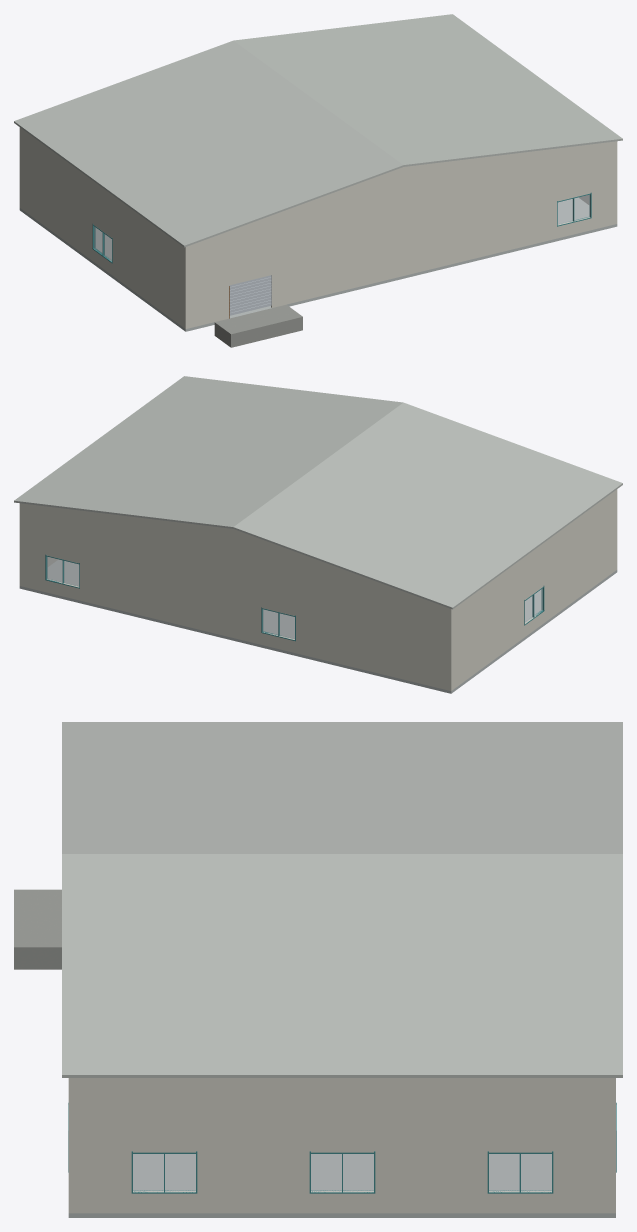
Rendered from innerscene_godown_warehouse.glb.
3 views of the same model, one above another, from view 1: azimuth 30°, elevation 25°; view 2: azimuth 150°, elevation 25°; view 3: azimuth 270°, elevation 25° (orthographic). The views are drawn at different scales.
Visible parts, largest first — view 1: Original pitched roof, Warehouse south right pier, Warehouse west front pier, Warehouse west rear pier, Closed plaster gable, Warehouse south left pier, Building floor slab, Loading dock apron, Office south right pier, Office south left pier, Warehouse south lintel, Office south lintel (+4 smaller); view 2: Original pitched roof, Warehouse north left pier, Warehouse north right pier, Warehouse west rear pier, Warehouse west front pier, Closed plaster gable.001, Building floor slab, Store / plant north right pier, Store / plant north left pier, Store / plant north lintel, Warehouse north lintel, Roof bearing ring beam.001 (+5 smaller); view 3: Original pitched roof, Building floor slab, Office east rear pier, Store / plant east front pier, Office east front pier, Store / plant east rear pier, WC / changing east front pier, WC / changing east rear pier, Office east lintel, Store / plant east lintel, WC / changing east lintel, Loading dock apron (+11 smaller).
Boxes of the visible parts, box(x1,y1,x2,y2) form: Original pitched roof: box(14, 14, 622, 247); Warehouse south right pier: box(271, 162, 530, 307); Warehouse west front pier: box(112, 195, 184, 327); Warehouse west rear pier: box(21, 128, 92, 260); Closed plaster gable: box(217, 144, 590, 235); Warehouse south left pier: box(184, 235, 228, 328); Building floor slab: box(19, 197, 617, 331); Loading dock apron: box(214, 304, 302, 347); Office south right pier: box(591, 141, 617, 229); Office south left pier: box(531, 155, 556, 244); Warehouse south lintel: box(229, 225, 271, 285); Office south lintel: box(557, 147, 591, 201); Original pitched roof: box(14, 376, 622, 609); Warehouse north left pier: box(296, 570, 452, 690); Warehouse north right pier: box(106, 524, 261, 644); Warehouse west rear pier: box(452, 557, 524, 689); Warehouse west front pier: box(544, 490, 615, 622); Closed plaster gable.001: box(46, 506, 419, 597); Building floor slab: box(19, 559, 617, 693); Store / plant north right pier: box(19, 503, 45, 591); Store / plant north left pier: box(80, 517, 105, 606); Store / plant north lintel: box(45, 509, 79, 563); Warehouse north lintel: box(261, 562, 295, 615); Roof bearing ring beam.001: box(24, 503, 442, 605); Original pitched roof: box(62, 722, 622, 1077); Building floor slab: box(68, 1154, 615, 1217); Office east rear pier: box(197, 1078, 256, 1213); Store / plant east front pier: box(428, 1078, 487, 1213); Office east front pier: box(73, 1078, 131, 1213); Store / plant east rear pier: box(553, 1078, 611, 1213); WC / changing east front pier: box(264, 1078, 309, 1213); WC / changing east rear pier: box(375, 1078, 420, 1213); Office east lintel: box(131, 1078, 197, 1152); Store / plant east lintel: box(487, 1078, 553, 1152); WC / changing east lintel: box(309, 1078, 375, 1152); Loading dock apron: box(14, 889, 61, 969).
Size of the model in its own units: 30.5 by 8.4 by 22.25.
8 materials, 8 textured.
